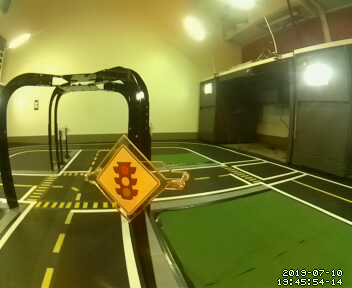Traffic light sign: (99, 146, 157, 215)
